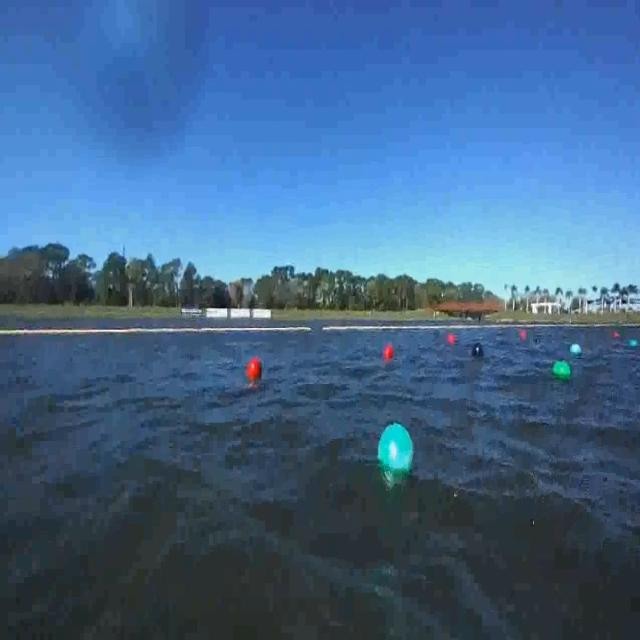black-buoy: (471, 342, 484, 360)
green-buoy: (377, 424, 413, 476), (553, 360, 571, 381), (570, 344, 581, 356), (630, 340, 639, 349)
red-buoy: (248, 358, 262, 381), (382, 344, 392, 363), (448, 335, 456, 346)
